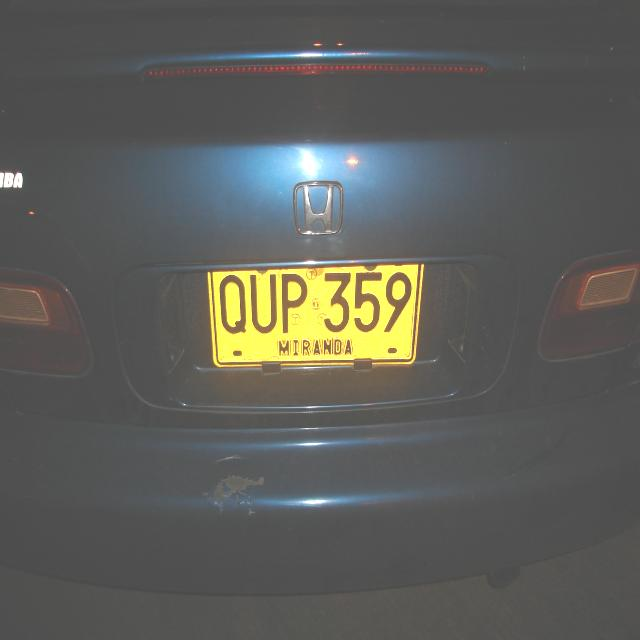placa: (203, 260, 427, 370)
